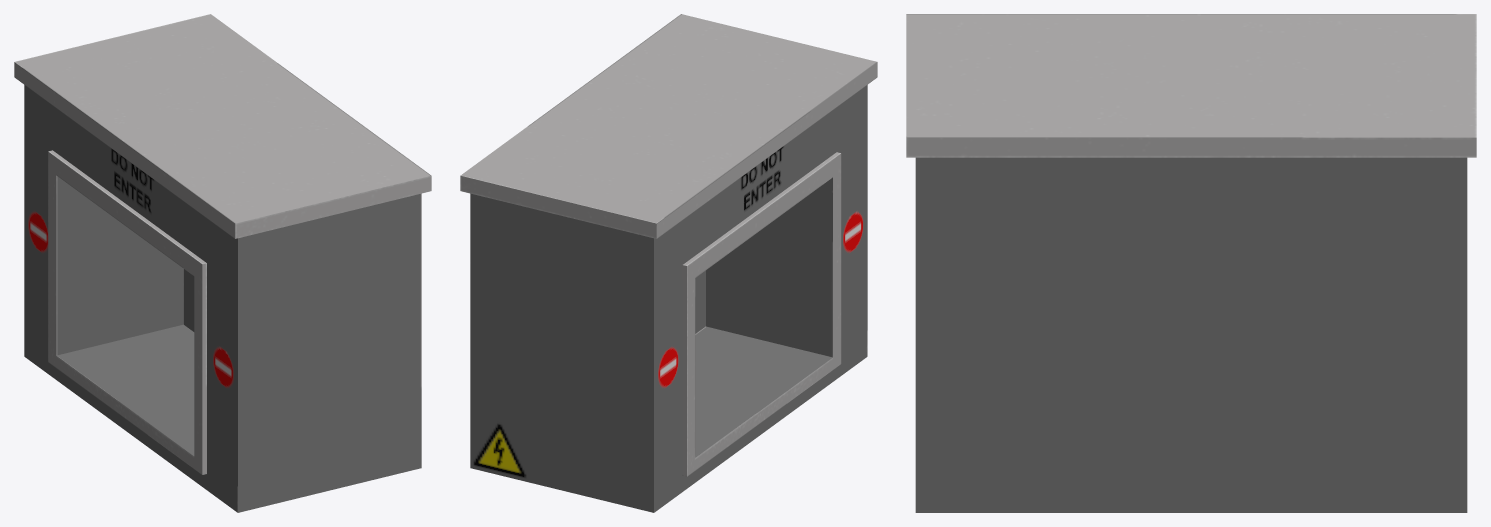
File: cabin.fbx
The picture shows the model from 3 angles, left to right: view 1: azimuth 30°, elevation 25°; view 2: azimuth 150°, elevation 25°; view 3: azimuth 270°, elevation 25°; orthographic projection. The views are drawn at different scales.
Visible parts, largest first — view 1: Cube.010; view 2: Cube.010; view 3: Cube.010.
Boxes of the visible parts, box(x1,y1,x2,y2) form: Cube.010: box(14, 14, 431, 512); Cube.010: box(460, 14, 877, 512); Cube.010: box(906, 14, 1476, 512).
Size of the model in its own units: 2395 by 3420 by 4665.
1 material, 1 textured.
